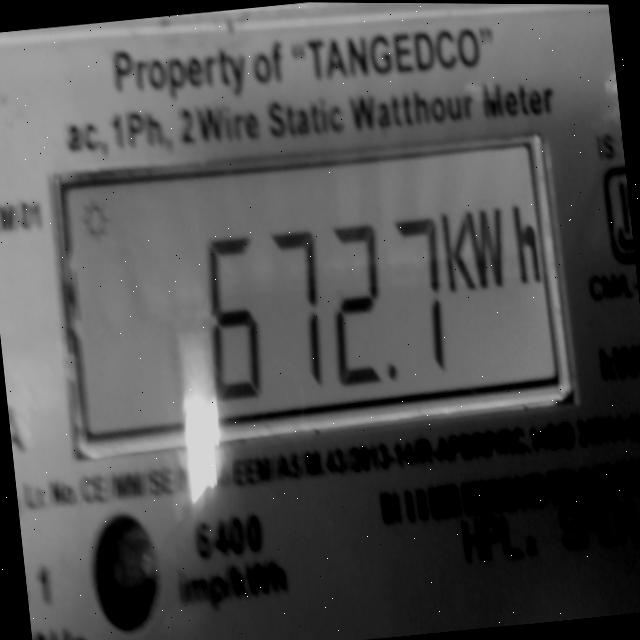.: (379, 360, 405, 388)
2: (318, 211, 391, 393)
6: (192, 214, 284, 405)
7: (264, 212, 336, 399), (387, 201, 456, 382)
